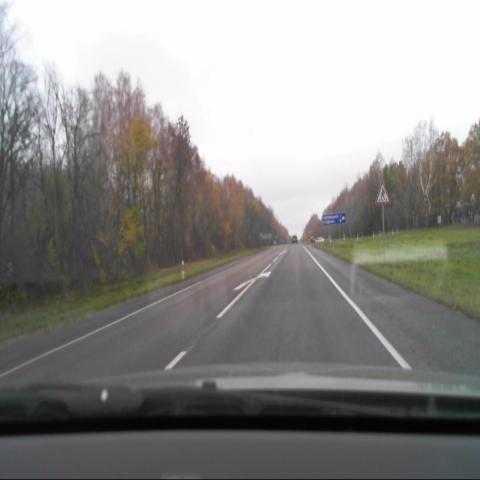1_22: (375, 181, 390, 204)
